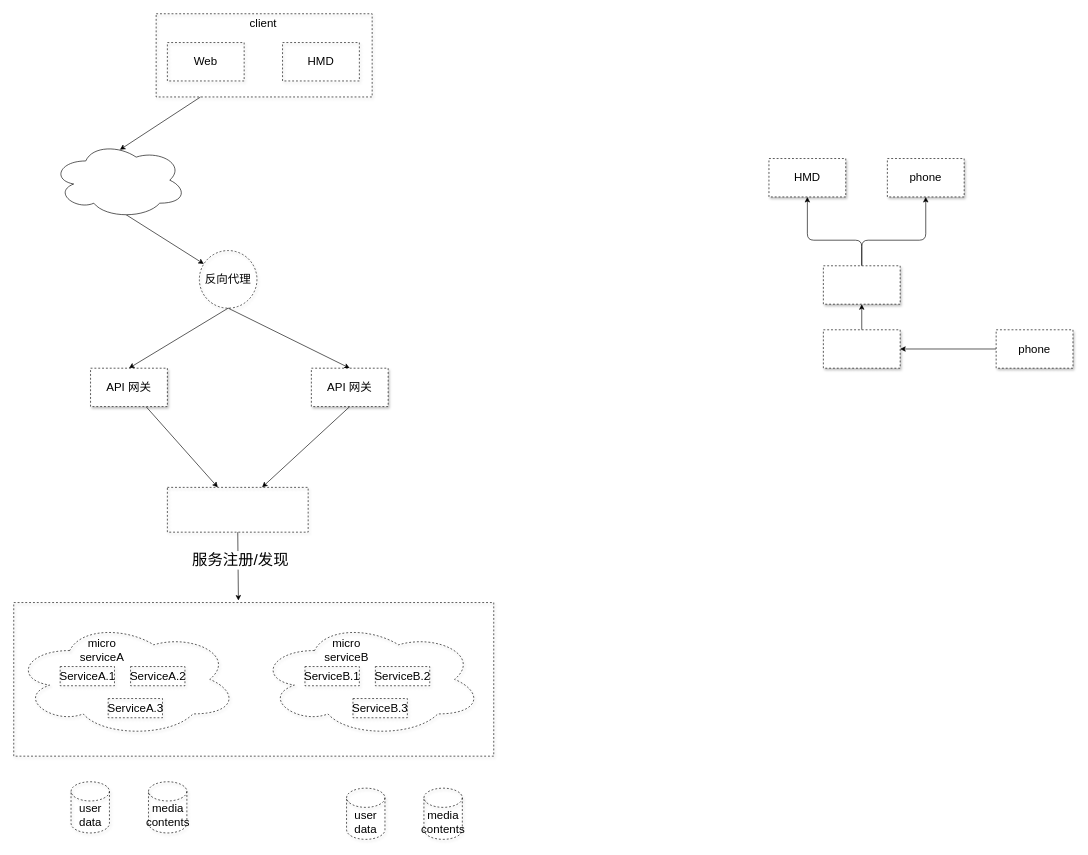
Some shapes in this 1088 by 855 pixel diagram are drawn without their labels. The centre of each missing label's shape, as x and y in pixels:
"Check" belongs at point 862,286.
"Contents" belongs at point 862,350.
"service monitor center" belongs at point 238,510.
"互联网" belongs at point 119,180.
